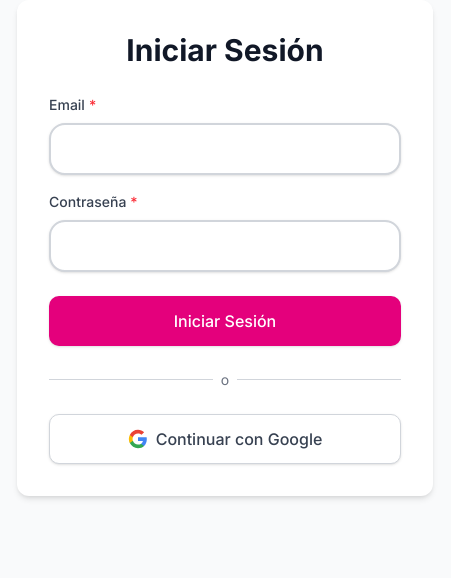
Test case: LoginForm Integration Tests › Form Rendering and Validation › should display validation error for invalid email format
Type "invalid-email" into the field labelled "Email*" at [225, 148], box [49,122,401,174]
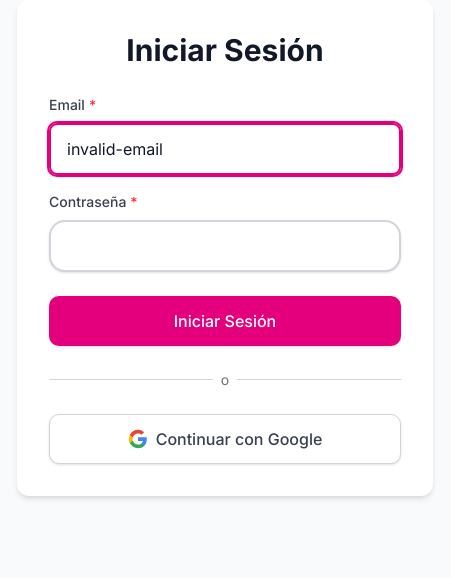
Click the button "Iniciar Sesión" at [225, 320], box [49,296,401,346]
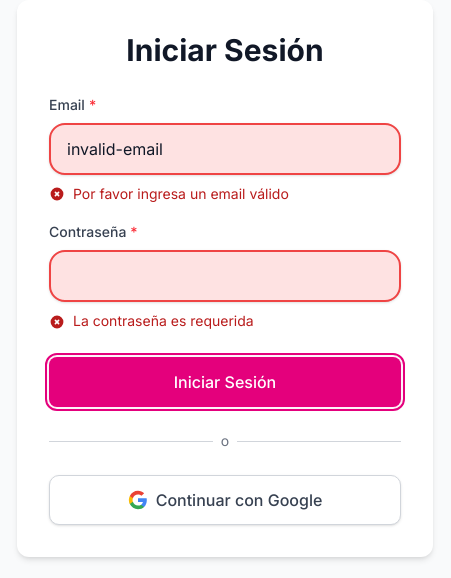
Result: the text "Por favor ingresa un email válido" is shown at [73,182,289,205]
